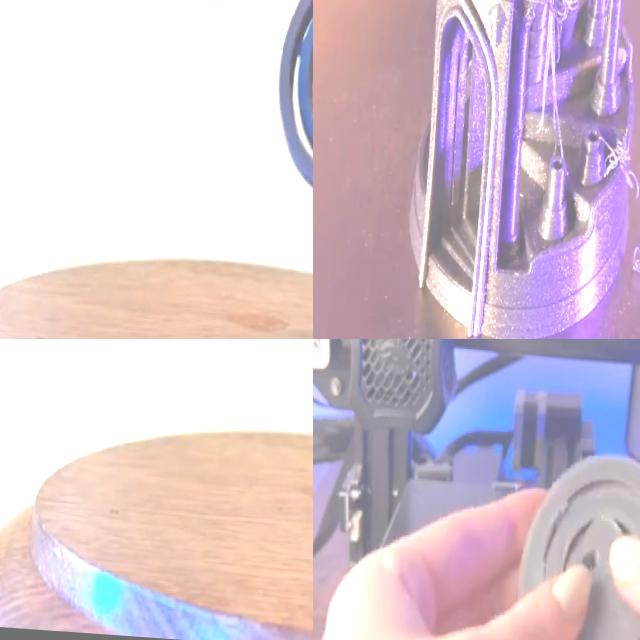spaghetti: (593, 125, 640, 206), (534, 0, 638, 35), (625, 235, 640, 287)
